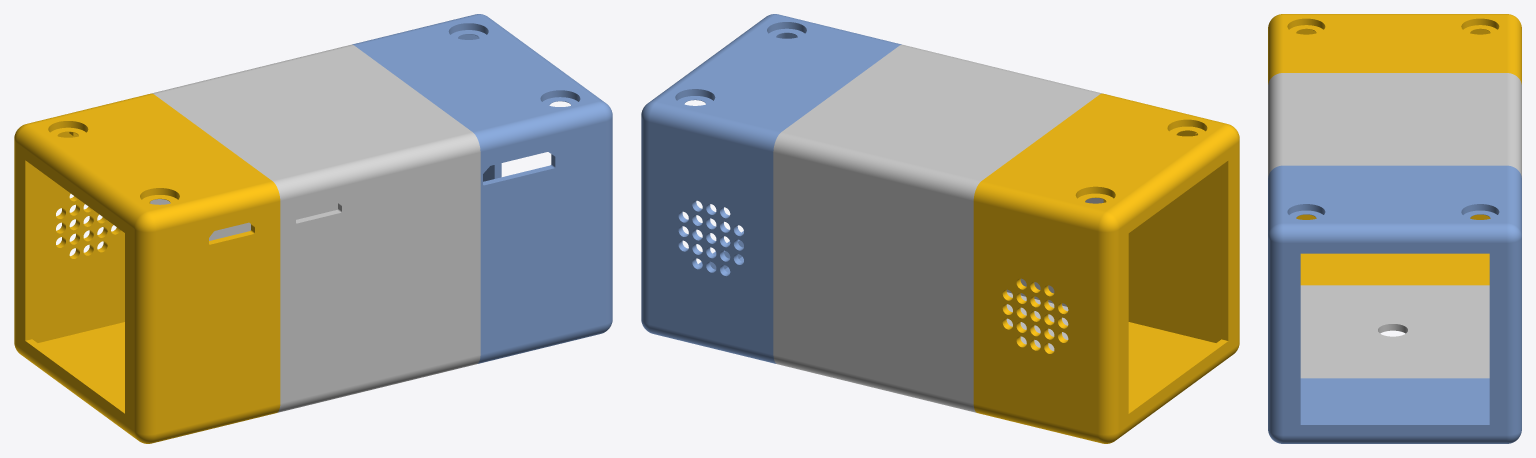
Rendered from RPI Zero 2W Mini Case.gltf.
3 views of the same model, side by side, from view 1: azimuth 30°, elevation 25°; view 2: azimuth 150°, elevation 25°; view 3: azimuth 270°, elevation 25° (orthographic). The views are drawn at different scales.
Visible parts, largest first — view 1: Part 3, Part 1, Part 2; view 2: Part 3, Part 1, Part 2; view 3: Part 2, Part 1, Part 3.
Part boxes in pixels (x1,y1,x2,y2): Part 3: (14, 93, 280, 443); Part 1: (150, 44, 480, 412); Part 2: (352, 14, 612, 363); Part 3: (973, 93, 1239, 443); Part 1: (773, 44, 1103, 412); Part 2: (641, 14, 901, 363); Part 2: (1268, 165, 1521, 443); Part 1: (1268, 73, 1521, 378); Part 3: (1268, 14, 1521, 285).
Bounding box in the file's own units: 0.069 × 0.032 × 0.0336.
